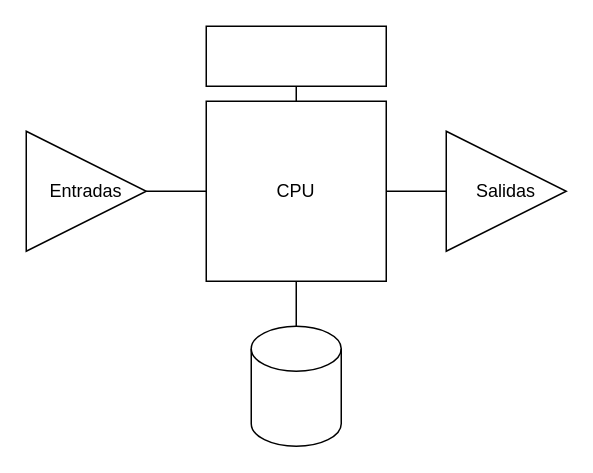
The diagram is 593 pixels wide and 473 high, and some of its shapes have lost their labels. Here are the shapes that lost their labels. From the top down, the box of each, then its label:
(205, 25, 386, 86): RAM
(250, 325, 341, 446): Disco duro
